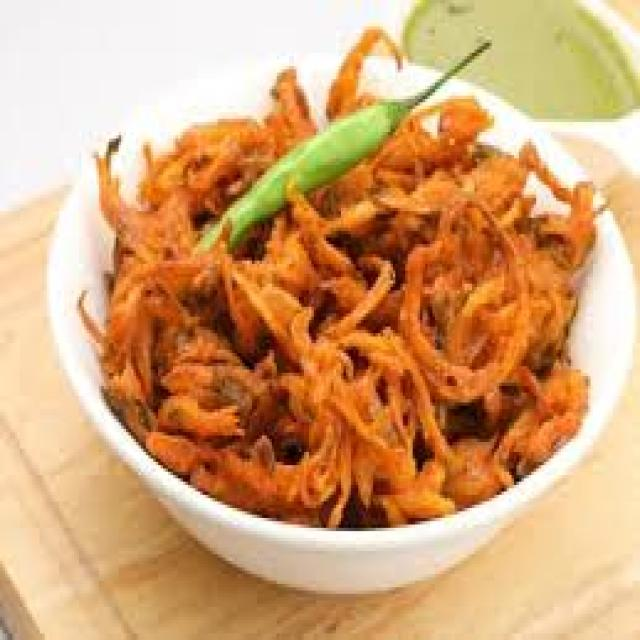BAJI: (73, 22, 603, 519)
